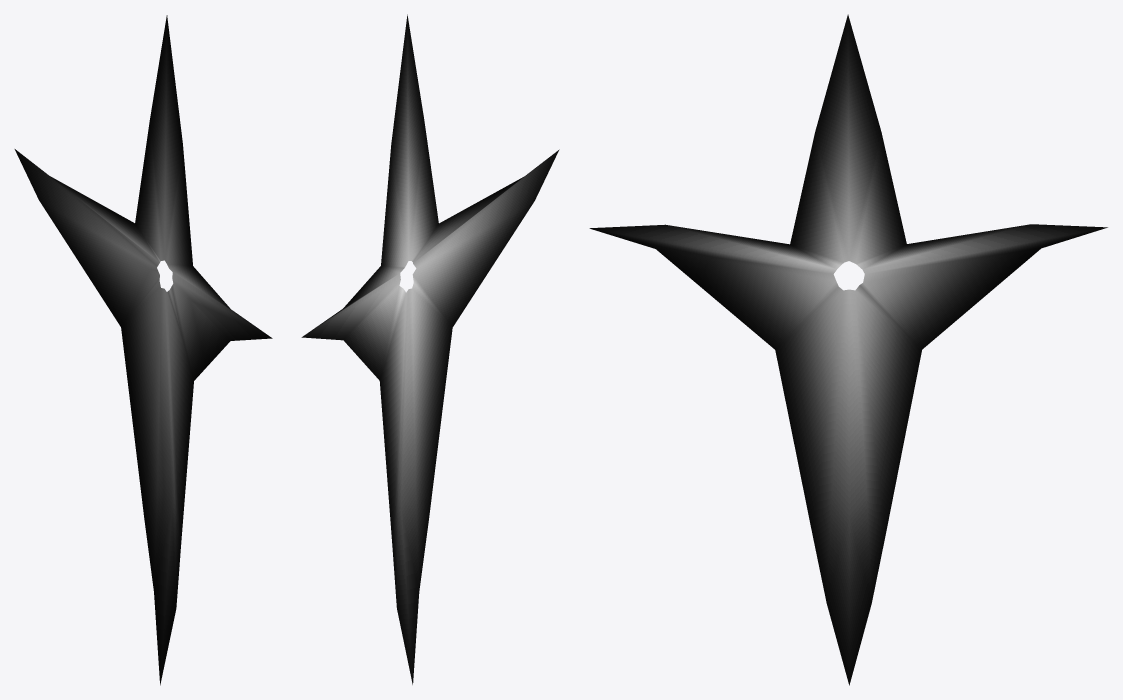
Rendered from shengtianshizhidun004.fbx.
3 views of the same model, side by side, from view 1: azimuth 30°, elevation 25°; view 2: azimuth 150°, elevation 25°; view 3: azimuth 270°, elevation 25° (orthographic).
Visible parts, largest first — view 1: shengtianshizhidun004; view 2: shengtianshizhidun004; view 3: shengtianshizhidun004.
Boxes of the visible parts, box(x1,y1,x2,y2) form: shengtianshizhidun004: box(14, 15, 272, 685); shengtianshizhidun004: box(301, 14, 559, 684); shengtianshizhidun004: box(589, 14, 1107, 685).
Size of the model in its own units: 22.85 by 389 by 272.
